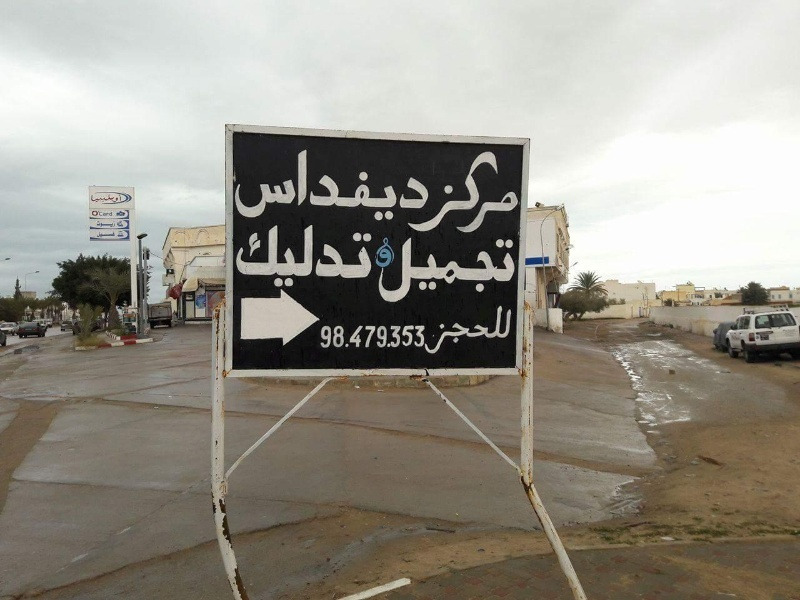text: (433, 150, 448, 236), (449, 150, 464, 236), (465, 150, 480, 236), (481, 150, 496, 236), (497, 150, 512, 236), (385, 227, 400, 306), (401, 227, 416, 306), (417, 227, 432, 306), (433, 227, 448, 306), (449, 227, 464, 306), (465, 227, 480, 306), (481, 227, 496, 306), (497, 227, 512, 306), (241, 148, 256, 221), (257, 148, 272, 221), (273, 148, 288, 221), (289, 148, 304, 221), (305, 148, 320, 221), (321, 148, 336, 221), (337, 148, 352, 221), (353, 148, 368, 221), (369, 148, 384, 221), (385, 148, 400, 221), (401, 148, 416, 221), (241, 222, 256, 291), (257, 222, 272, 291), (273, 222, 288, 291), (289, 222, 304, 291), (305, 222, 320, 291), (321, 222, 336, 291), (337, 222, 352, 291), (353, 222, 368, 291), (417, 148, 430, 221), (497, 302, 513, 357), (433, 302, 448, 357), (449, 302, 464, 357), (465, 302, 480, 357), (481, 302, 496, 357), (513, 150, 521, 236), (232, 148, 240, 221), (369, 222, 376, 291), (385, 237, 397, 272), (379, 227, 384, 306), (321, 324, 336, 350), (337, 324, 352, 350), (353, 324, 368, 350), (369, 324, 384, 350), (385, 324, 400, 350), (401, 324, 416, 350), (374, 237, 384, 272), (426, 302, 432, 357), (513, 227, 517, 306), (417, 324, 427, 350), (237, 222, 240, 291), (97, 192, 112, 204), (113, 192, 122, 204), (97, 221, 112, 228), (97, 211, 113, 217), (97, 232, 112, 238), (431, 150, 432, 236), (91, 192, 96, 204), (318, 324, 320, 350), (92, 211, 96, 217), (113, 221, 116, 228), (113, 232, 115, 238)
